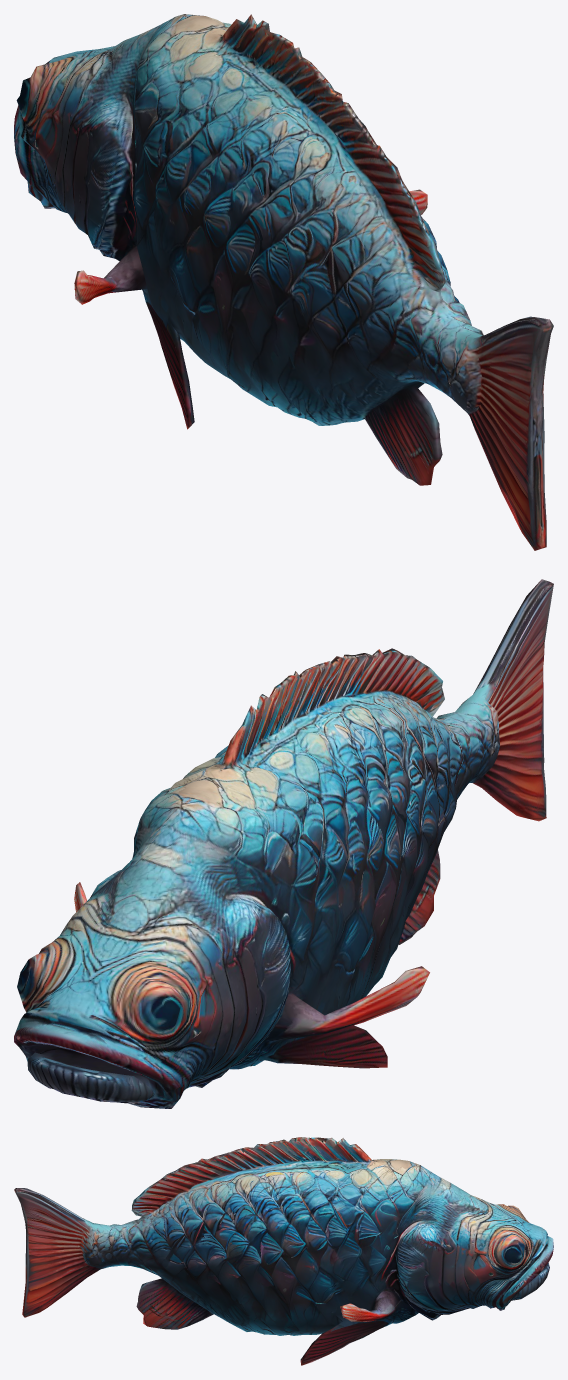
File: AzureCarp.glb
The picture shows the model from 3 angles, top to bottom: view 1: azimuth 30°, elevation 25°; view 2: azimuth 150°, elevation 25°; view 3: azimuth 270°, elevation 25°; orthographic projection. The views are drawn at different scales.
Parts seen in each view (by area): view 1: tripo_node_49c19bff-41d1-4376-bee9-5e4c90444d24; view 2: tripo_node_49c19bff-41d1-4376-bee9-5e4c90444d24; view 3: tripo_node_49c19bff-41d1-4376-bee9-5e4c90444d24.
Boxes of the visible parts, left/top/right/bottom form: tripo_node_49c19bff-41d1-4376-bee9-5e4c90444d24: left=14, top=14, right=553, bottom=550; tripo_node_49c19bff-41d1-4376-bee9-5e4c90444d24: left=14, top=579, right=553, bottom=1108; tripo_node_49c19bff-41d1-4376-bee9-5e4c90444d24: left=14, top=1137, right=553, bottom=1365.
Size of the model in its own units: 0.4185 by 0.4125 by 1.
Materials: 1 (1 with a texture image).
